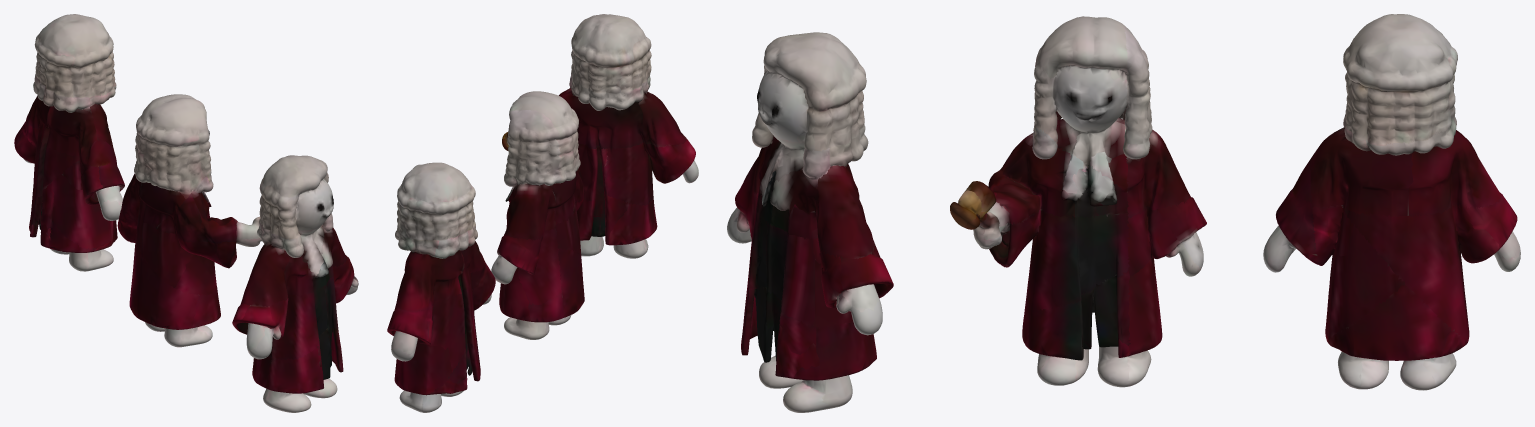
Rendered from judge.glb.
3 renders of one model, left to right at view 1: azimuth 30°, elevation 25°; view 2: azimuth 150°, elevation 25°; view 3: azimuth 270°, elevation 25°, orthographic. The views are drawn at different scales.
Parts seen in each view (by area): view 1: tripo_node_6bc324ec-9962-436b-8811-75f4fa67e57b; view 2: tripo_node_6bc324ec-9962-436b-8811-75f4fa67e57b; view 3: tripo_node_6bc324ec-9962-436b-8811-75f4fa67e57b.
Boxes of the visible parts, bbox=[...] form: tripo_node_6bc324ec-9962-436b-8811-75f4fa67e57b: bbox=[14, 14, 358, 412]; tripo_node_6bc324ec-9962-436b-8811-75f4fa67e57b: bbox=[387, 14, 698, 412]; tripo_node_6bc324ec-9962-436b-8811-75f4fa67e57b: bbox=[727, 14, 1520, 412].
Bounding box in the file's own units: 1.2 × 1.8 × 3.66.
Materials: 1 (1 with a texture image).
